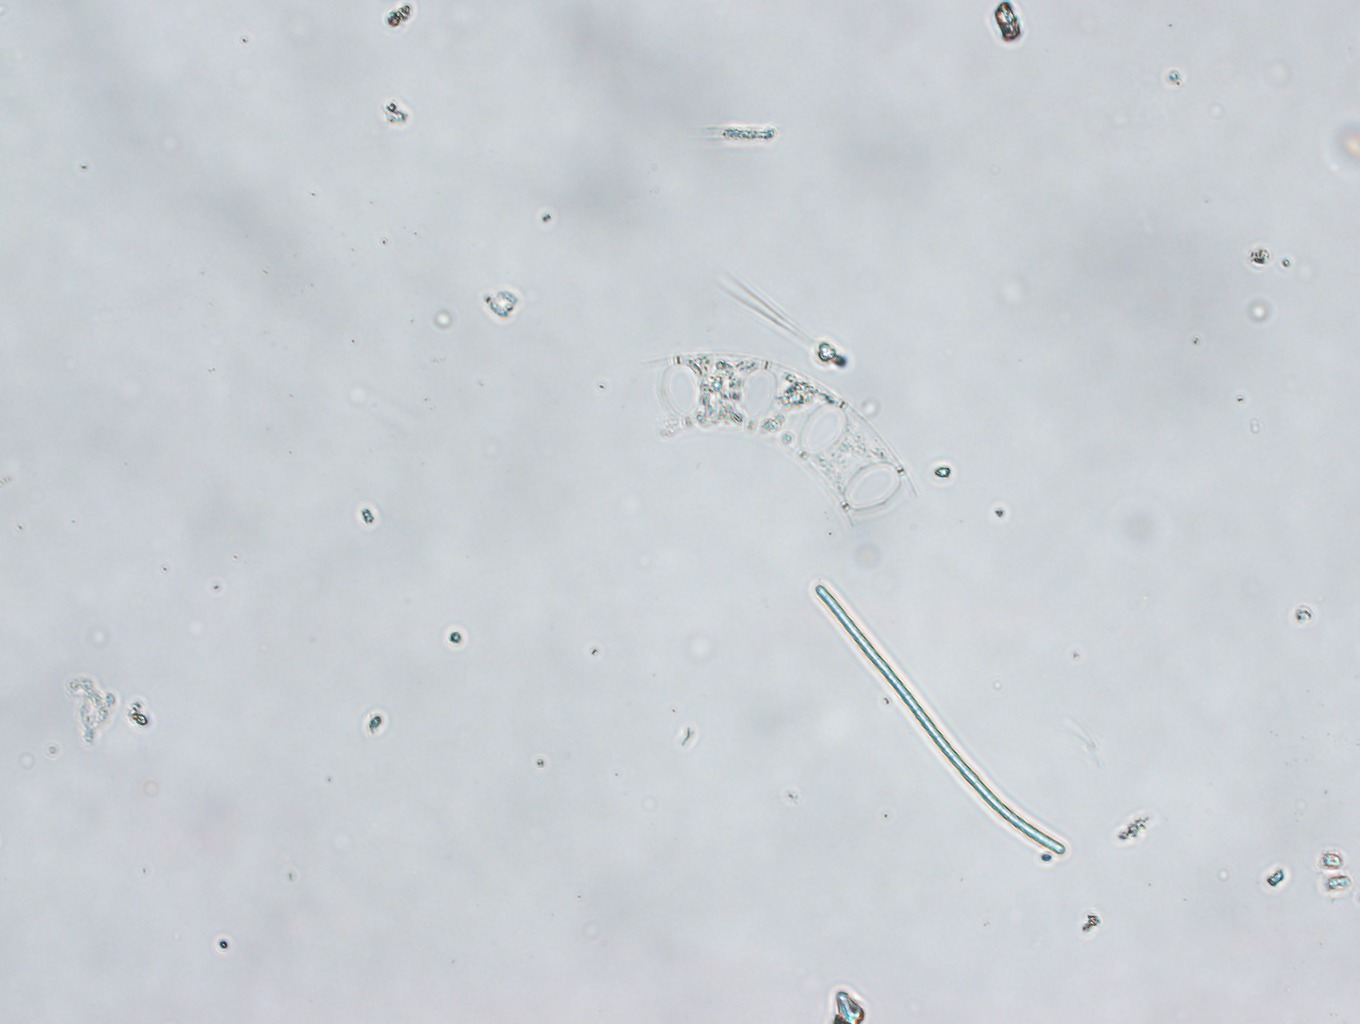eucampia: (636, 353, 917, 526)
